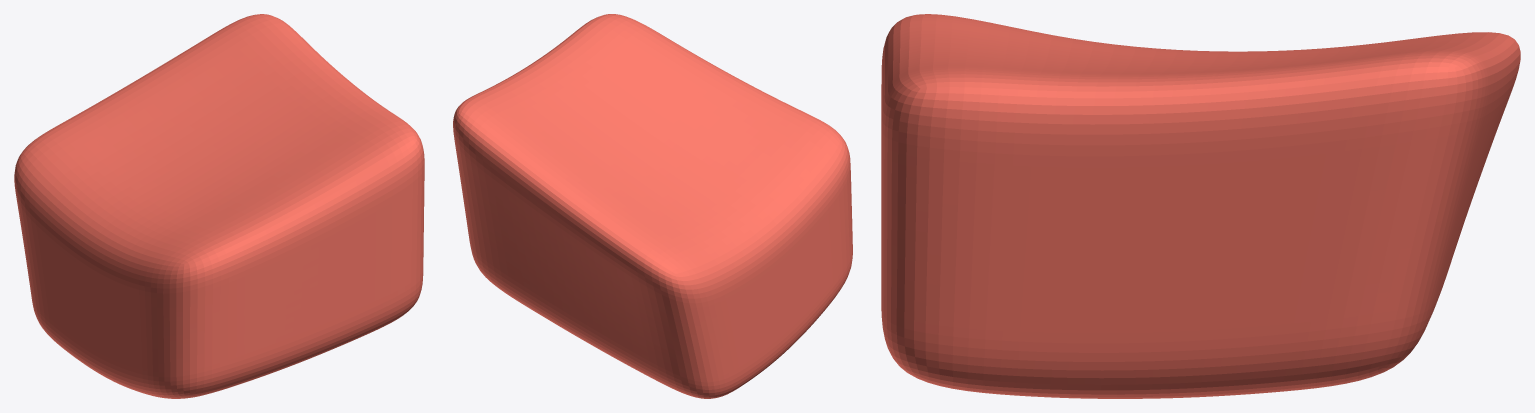
The picture shows the model from 3 angles, left to right: view 1: azimuth 30°, elevation 25°; view 2: azimuth 150°, elevation 25°; view 3: azimuth 270°, elevation 25°; orthographic projection. The views are drawn at different scales.
Visible parts, largest first — view 1: waves_1.048; view 2: waves_1.048; view 3: waves_1.048.
Boxes of the visible parts, x1=… form: waves_1.048: x1=14, y1=14, x2=424, y2=398; waves_1.048: x1=453, y1=14, x2=852, y2=398; waves_1.048: x1=881, y1=14, x2=1520, y2=398.
Size of the model in its own units: 30.42 by 27.84 by 36.59.
